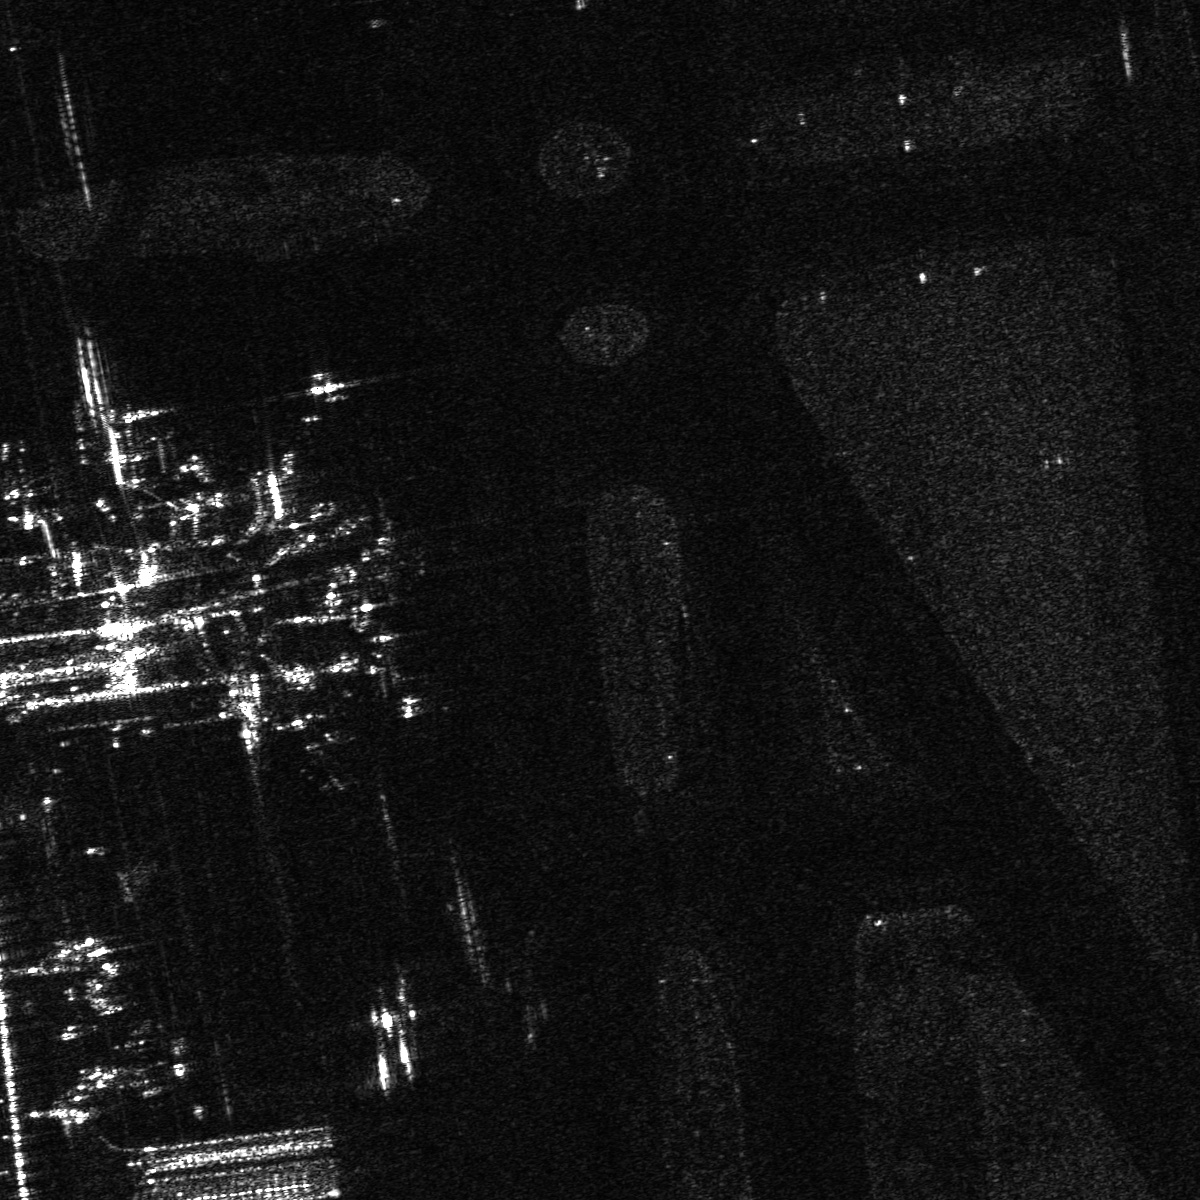A220: (1, 436, 49, 509)
